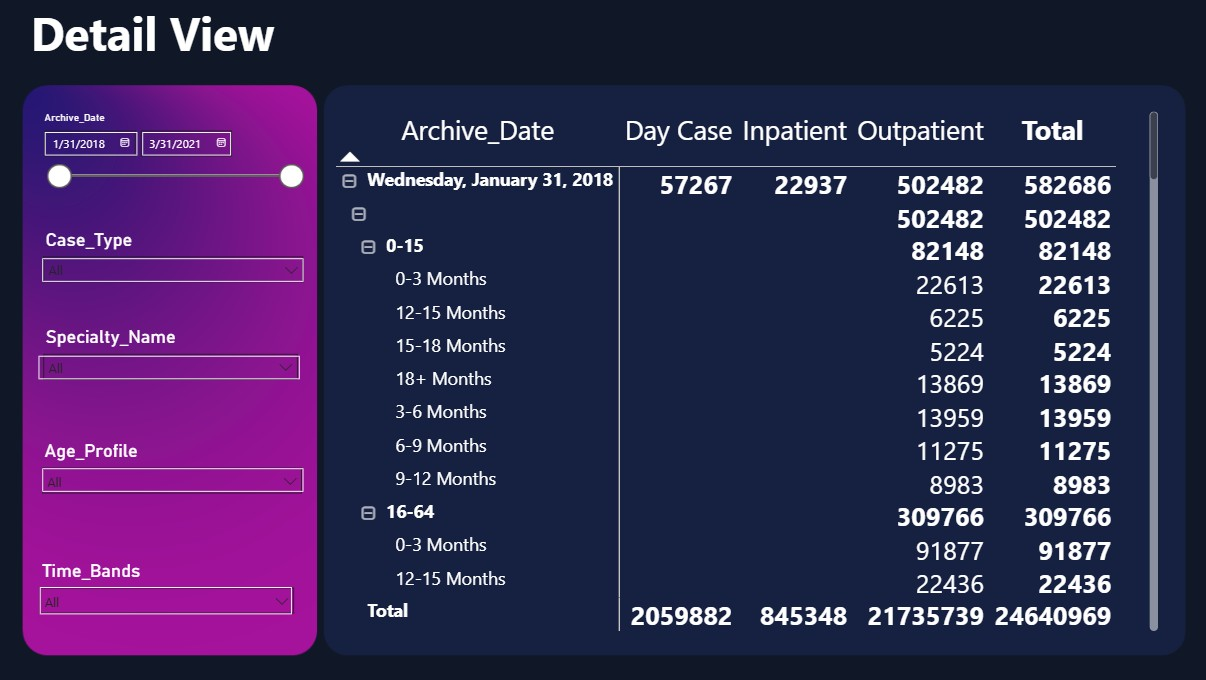

The dashboard page shown, as its layout file describes it:
{"tool":"powerbi","page":{"name":"Detail","canvas":[1280,720],"ordinal":1},"visuals":[{"type":"slicer","fields":{"Values":["All_Data.Archive_Date"]},"box":[38,116,294,124],"z":0},{"type":"slicer","fields":{"Values":["All_Data.Case_Type"]},"box":[40,240,294,72],"z":1000},{"type":"slicer","fields":{"Values":["All_Data.Specialty_Name"]},"box":[40,342,288,72],"z":2000},{"type":"textbox","box":[32,0,382,74],"z":3000},{"type":"slicer","fields":{"Values":["All_Data.Age_Profile"]},"box":[38,462,294,78],"z":4000},{"type":"slicer","fields":{"Values":["All_Data.Time_Bands"]},"box":[36,588,288,88],"z":5000},{"type":"pivotTable","fields":{"Rows":["All_Data.Archive_Date","All_Data.Specialty_Name","All_Data.Age_Profile","All_Data.Time_Bands"],"Columns":["All_Data.Case_Type"],"Values":["Sum(All_Data.Total)"]},"box":[353,116,876,557],"z":6000},{"type":"shape","box":[51.4,142.2,97.4,25],"z":6001},{"type":"shape","box":[154.1,142.2,93.5,25],"z":6002},{"type":"shape","box":[48.7,275.2,275.2,25],"z":6003},{"type":"shape","box":[44.8,377.9,275.2,25],"z":6004},{"type":"shape","box":[48.7,496.4,275.2,25],"z":6005},{"type":"shape","box":[46.1,621.5,266,29],"z":6006}]}

Visuals, with their boxes in screenshot pixels (x1, y1, x2, y2), scaled from the page's 1280x720 canvas onto the 1206x680 screenshot:
slicer - All_Data.Archive_Date: <bbox>36, 110, 313, 227</bbox>
slicer - All_Data.Case_Type: <bbox>38, 227, 315, 295</bbox>
slicer - All_Data.Specialty_Name: <bbox>38, 323, 309, 391</bbox>
textbox: <bbox>30, 0, 390, 70</bbox>
slicer - All_Data.Age_Profile: <bbox>36, 436, 313, 510</bbox>
slicer - All_Data.Time_Bands: <bbox>34, 555, 305, 638</bbox>
pivotTable - All_Data.Archive_Date x All_Data.Specialty_Name: <bbox>333, 110, 1158, 636</bbox>
shape: <bbox>48, 134, 140, 158</bbox>
shape: <bbox>145, 134, 233, 158</bbox>
shape: <bbox>46, 260, 305, 284</bbox>
shape: <bbox>42, 357, 302, 381</bbox>
shape: <bbox>46, 469, 305, 492</bbox>
shape: <bbox>43, 587, 294, 614</bbox>
